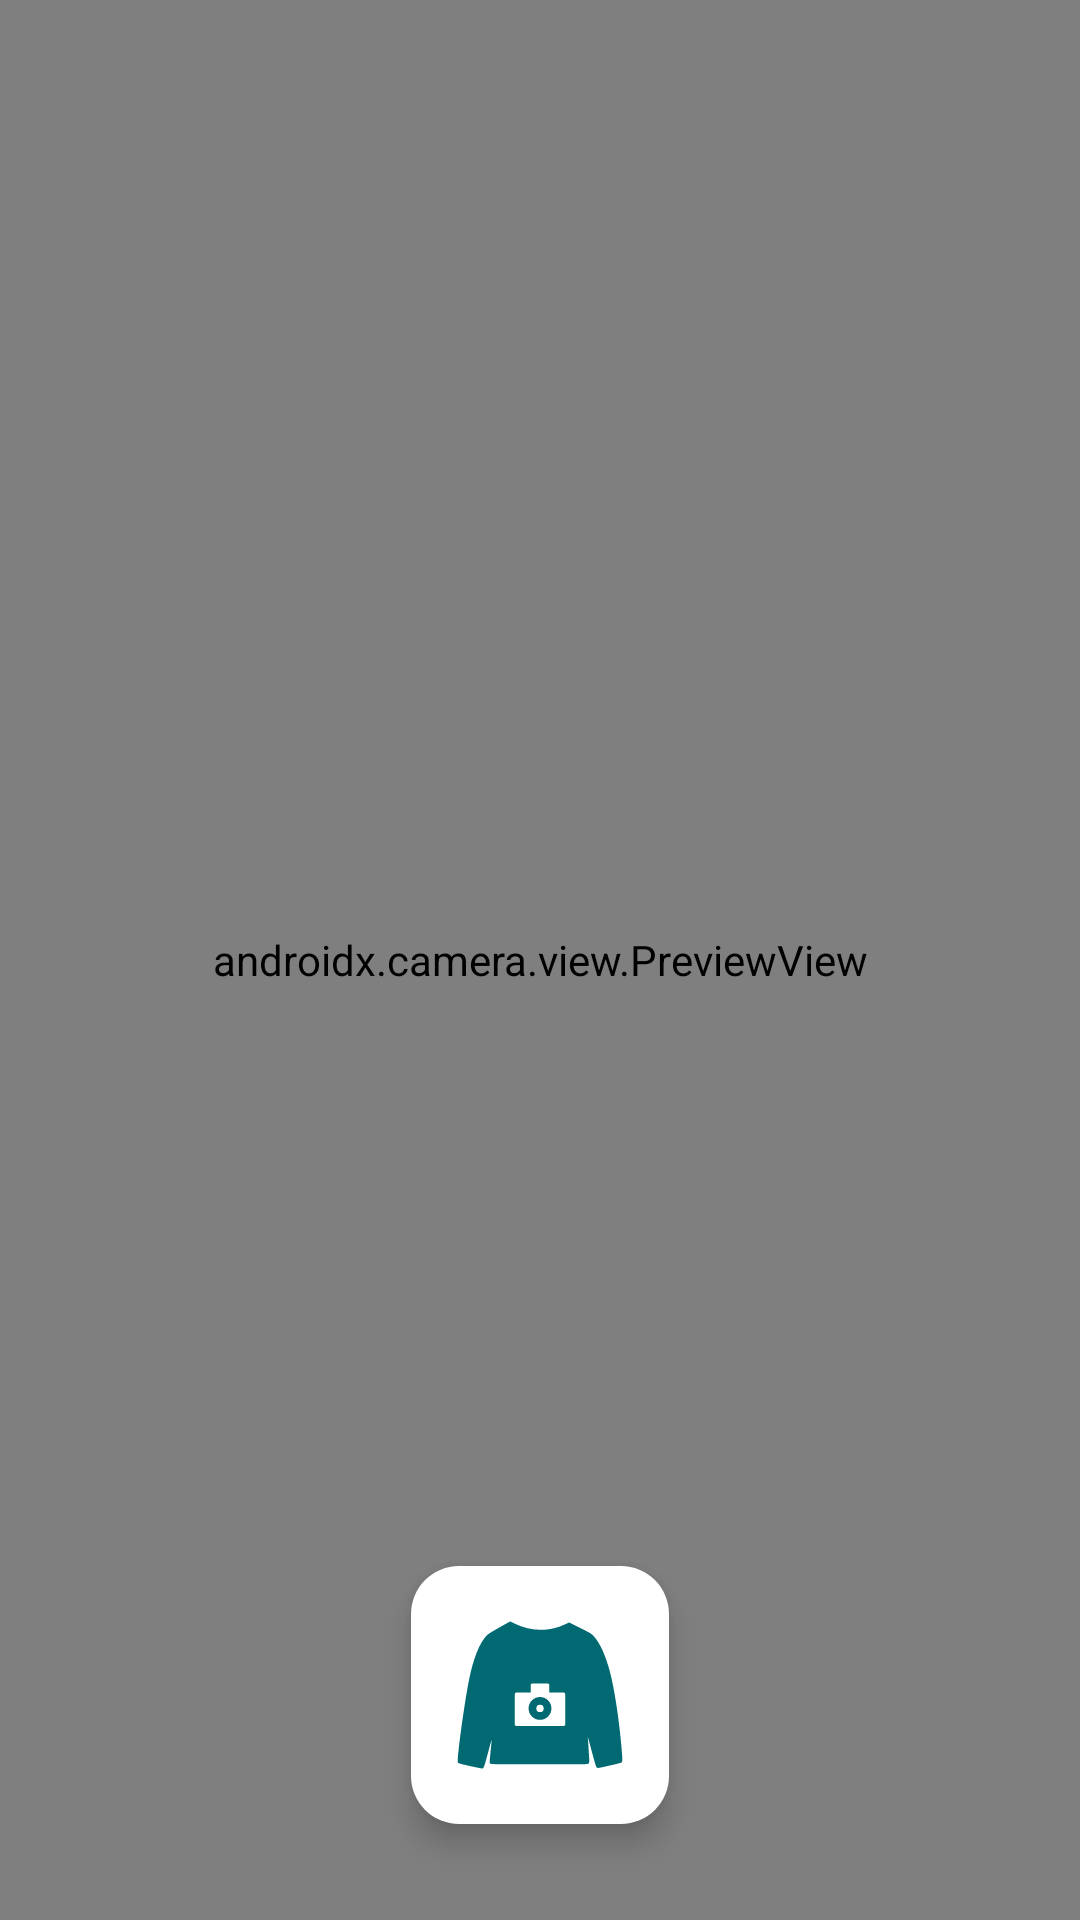

Where icons sit on this 1080px×1920px app screen, as (x1, y1, x2, y2):
tshirt camera: (411, 1566, 669, 1824)
